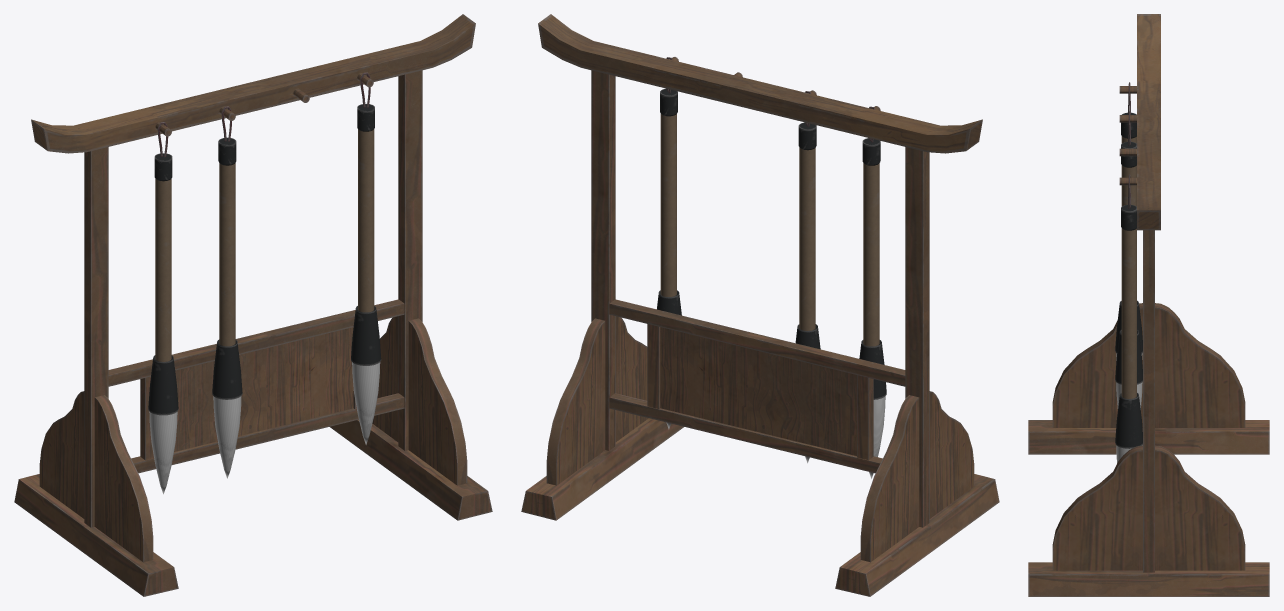
The model's file is library_loom_brushcase.fbx.
The picture shows the model from 3 angles, left to right: view 1: azimuth 30°, elevation 25°; view 2: azimuth 150°, elevation 25°; view 3: azimuth 270°, elevation 25°; orthographic projection. The views are drawn at different scales.
Visible parts, largest first — view 1: brush.case_lo; view 2: brush.case_lo; view 3: brush.case_lo.
Boxes of the visible parts, bbox=[...] form: brush.case_lo: bbox=[14, 14, 492, 596]; brush.case_lo: bbox=[521, 14, 999, 596]; brush.case_lo: bbox=[1028, 14, 1269, 596].
Size of the model in its own units: 38.54 by 37.16 by 20.
